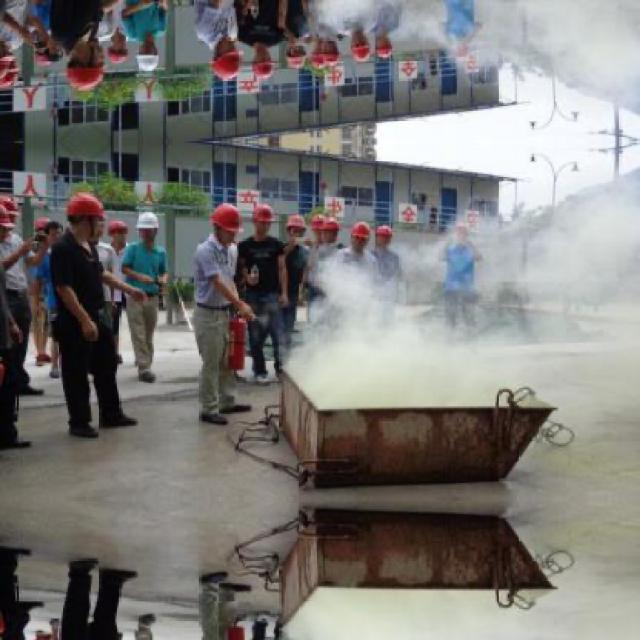helmet: (63, 188, 109, 242), (63, 40, 109, 94), (209, 200, 245, 242), (209, 40, 245, 82), (251, 200, 277, 237), (251, 43, 277, 80), (136, 38, 162, 71), (136, 211, 162, 243), (348, 220, 372, 254), (348, 26, 372, 60), (3, 41, 19, 90), (284, 210, 308, 242), (3, 190, 19, 238), (284, 39, 308, 70), (109, 218, 131, 244), (109, 37, 131, 63), (322, 216, 342, 242), (322, 40, 342, 66), (374, 223, 394, 248), (374, 32, 394, 57), (309, 212, 326, 238), (309, 43, 326, 69)
